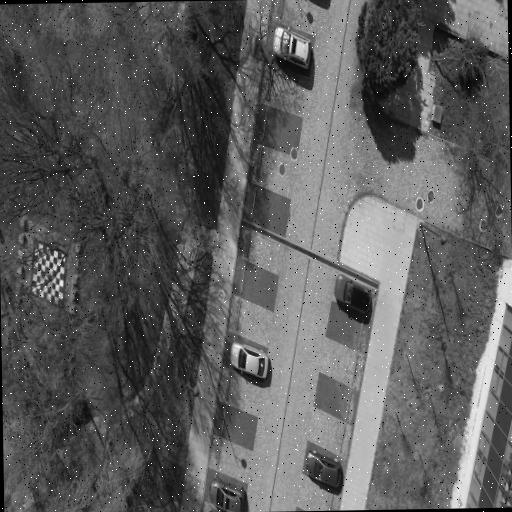person: (273, 26, 310, 67), (335, 274, 371, 313), (231, 342, 269, 377), (306, 450, 342, 486), (210, 476, 245, 511), (209, 507, 218, 511)
